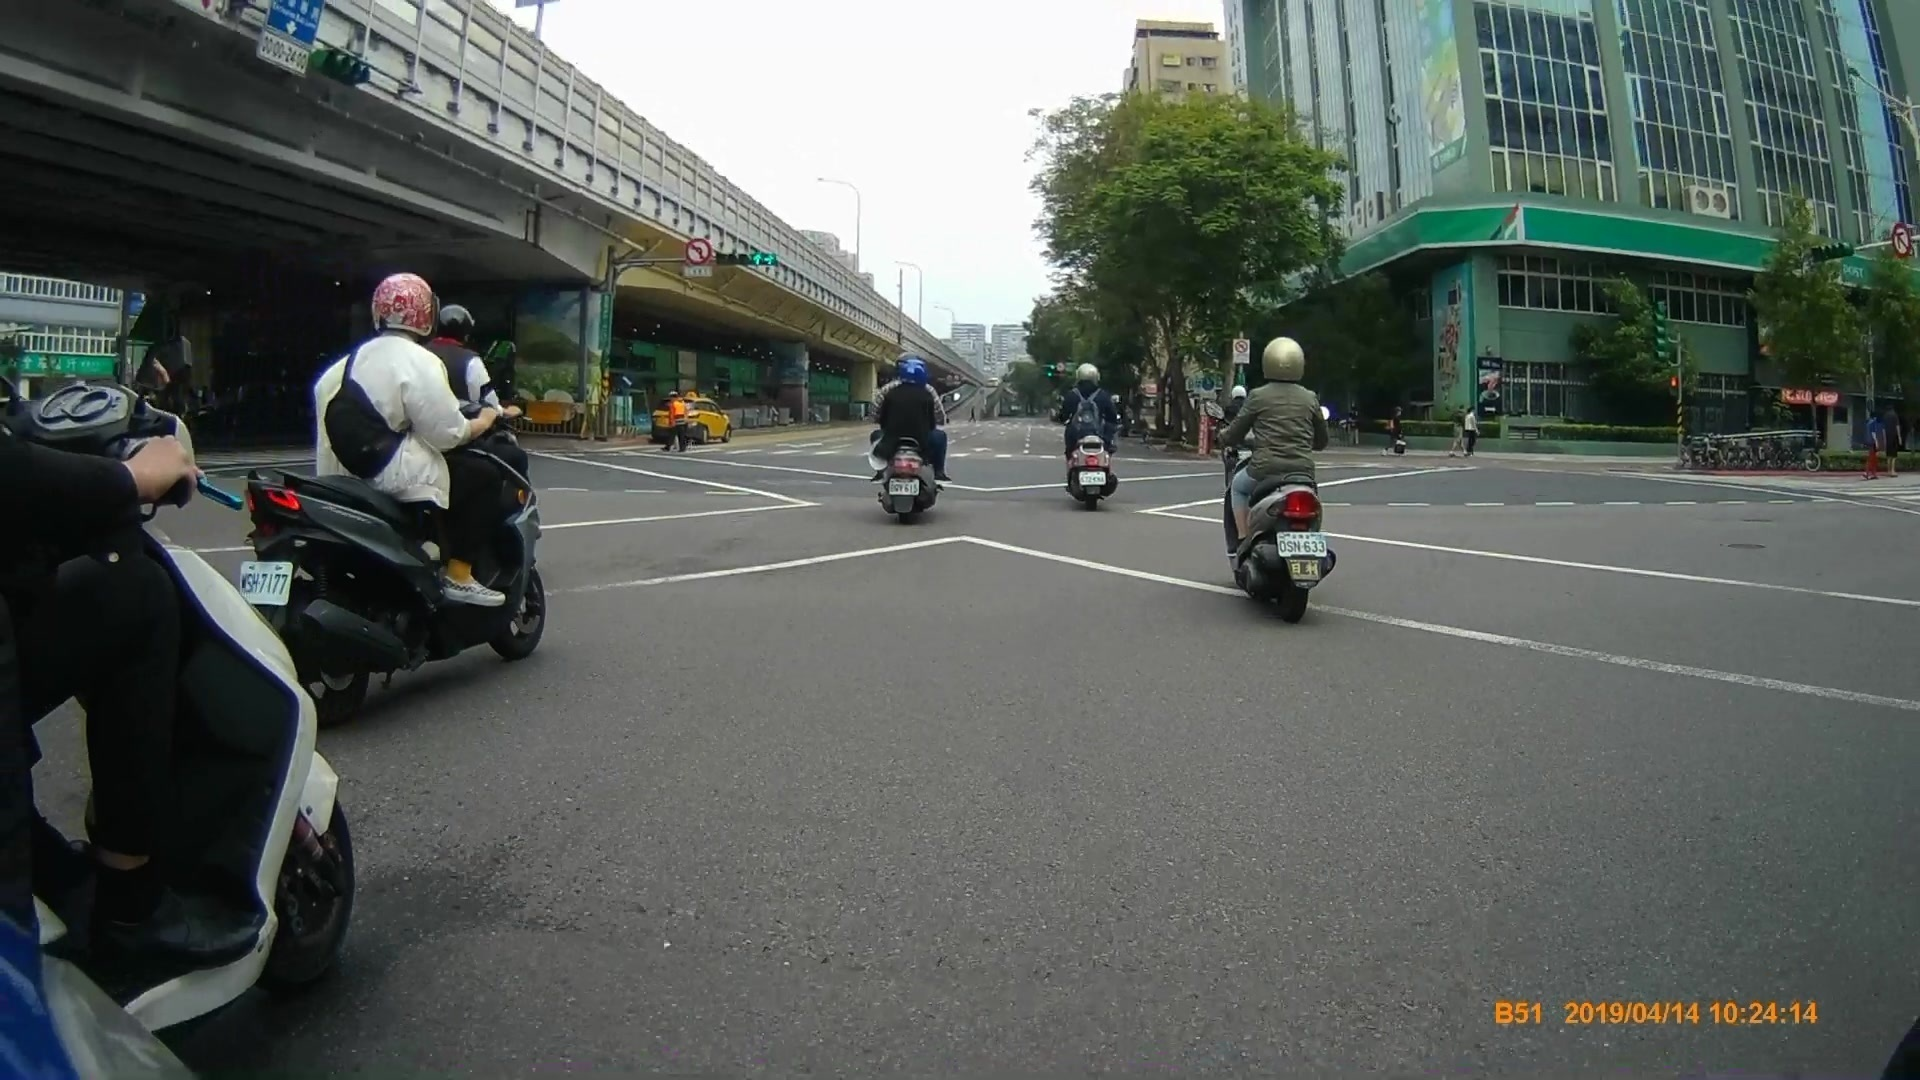License_plate: (235, 560, 294, 605), (1274, 531, 1332, 560), (884, 472, 926, 501), (1076, 469, 1110, 486)
